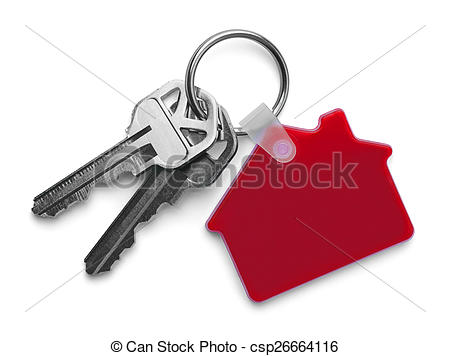key: (31, 77, 240, 278)
